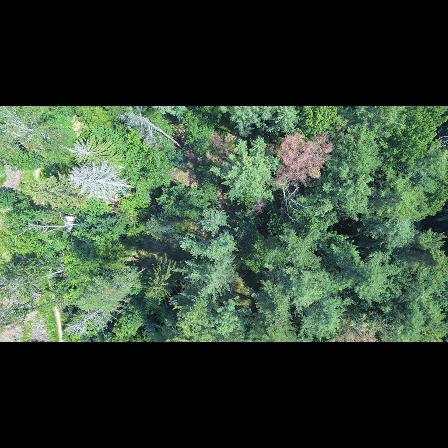Dead: (65, 159, 140, 203), (117, 106, 185, 152), (62, 297, 120, 338)
